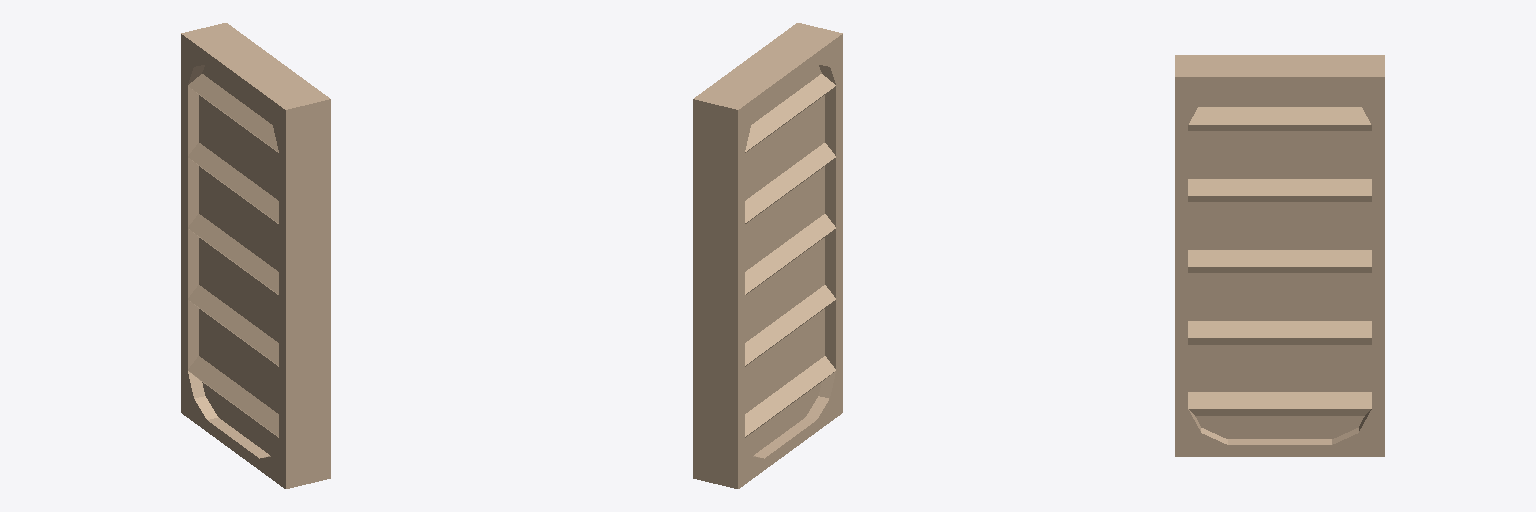
File: sliding_seal_door.obj
3 views of the same model, side by side, from view 1: azimuth 30°, elevation 25°; view 2: azimuth 150°, elevation 25°; view 3: azimuth 270°, elevation 25° (orthographic).
Visible parts, largest first — view 1: frame, door; view 2: frame, door; view 3: door, frame.
Boxes of the visible parts, <box> form: frame: <box>181,23,330,488</box>; door: <box>188,65,278,455</box>; frame: <box>693,23,842,488</box>; door: <box>745,65,835,455</box>; door: <box>1188,89,1371,438</box>; frame: <box>1175,55,1384,456</box>.
Size of the model in its own units: 0.25 by 2 by 1.